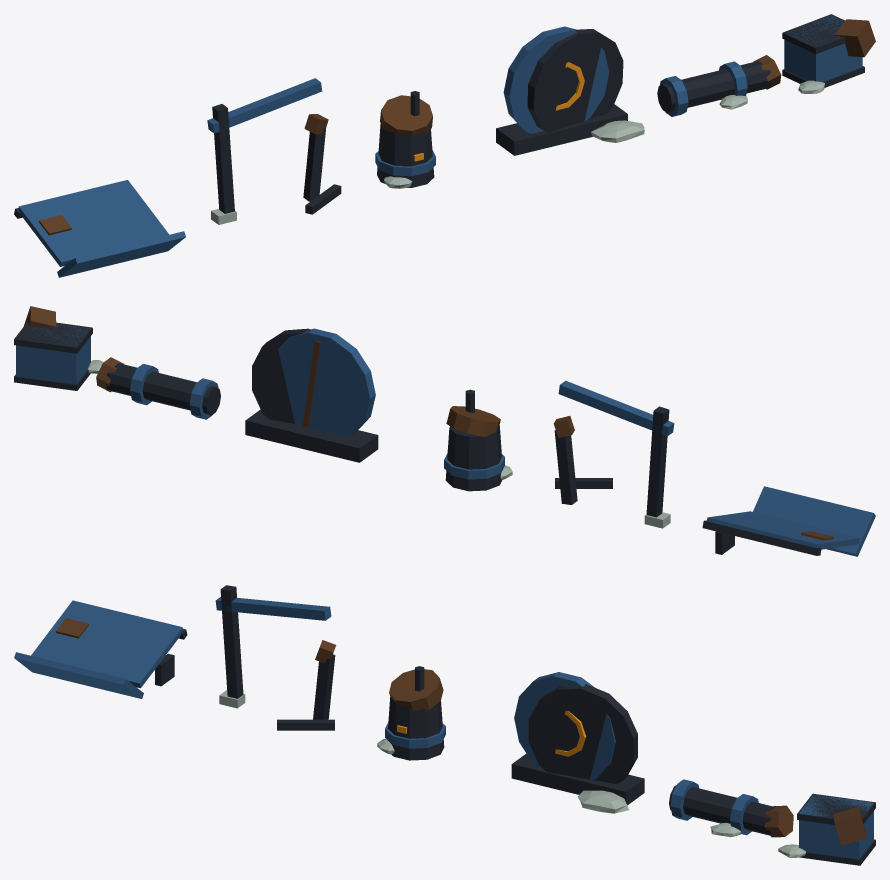
3 views of the same model, one above another, from view 1: azimuth 30°, elevation 25°; view 2: azimuth 150°, elevation 25°; view 3: azimuth 330°, elevation 25° (orthographic).
Parts seen in each view (by area): view 1: DL010_WreckageSet_metal_dark, DL010_WreckageSet_faded_blue, DL010_WreckageSet_corrosion, DL010_WreckageSet_mineral; view 2: DL010_WreckageSet_faded_blue, DL010_WreckageSet_metal_dark, DL010_WreckageSet_corrosion, DL010_WreckageSet_mineral; view 3: DL010_WreckageSet_metal_dark, DL010_WreckageSet_faded_blue, DL010_WreckageSet_corrosion, DL010_WreckageSet_mineral.
Boxes of the visible parts, x1,y1,x2,y2 form: DL010_WreckageSet_metal_dark: (14, 14, 864, 218); DL010_WreckageSet_faded_blue: (18, 15, 862, 277); DL010_WreckageSet_corrosion: (39, 19, 875, 235); DL010_WreckageSet_mineral: (211, 80, 824, 224); DL010_WreckageSet_faded_blue: (16, 323, 875, 556); DL010_WreckageSet_metal_dark: (14, 321, 821, 555); DL010_WreckageSet_corrosion: (23, 306, 833, 540); DL010_WreckageSet_mineral: (87, 360, 670, 528); DL010_WreckageSet_metal_dark: (155, 585, 875, 865); DL010_WreckageSet_faded_blue: (14, 597, 873, 858); DL010_WreckageSet_corrosion: (56, 618, 866, 845); DL010_WreckageSet_mineral: (219, 690, 805, 857).
Size of the model in its own units: 18.15 by 2.53 by 2.32.
